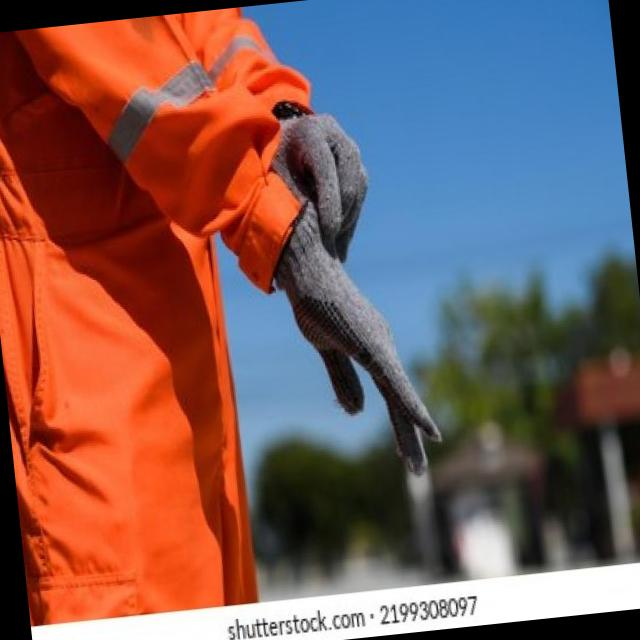Gloves: (263, 162, 443, 494), (280, 84, 386, 244)
